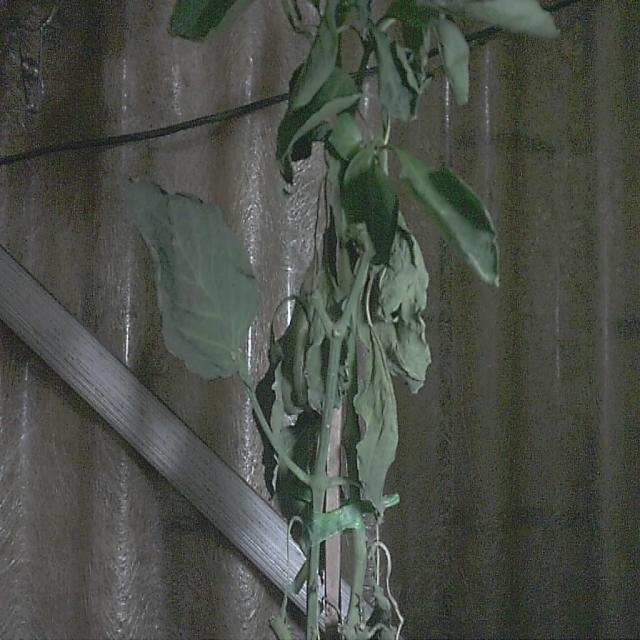Leaf: (124, 173, 259, 380), (399, 148, 502, 289), (277, 60, 361, 177), (353, 330, 399, 521), (342, 145, 397, 268)
